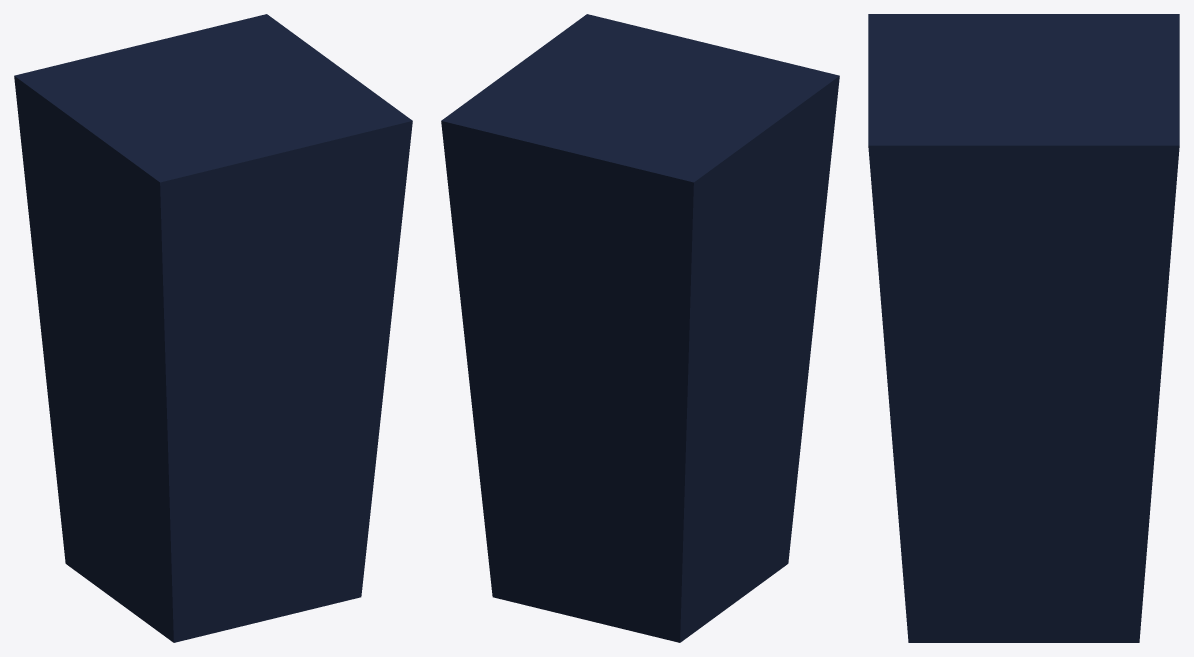
The model's file is Thor_LegLower 1.FBX.
3 views of the same model, side by side, from view 1: azimuth 30°, elevation 25°; view 2: azimuth 150°, elevation 25°; view 3: azimuth 270°, elevation 25° (orthographic). The views are drawn at different scales.
Visible parts, largest first — view 1: LowerLeg; view 2: LowerLeg; view 3: LowerLeg.
Boxes of the visible parts, bbox=[...] form: LowerLeg: bbox=[14, 14, 412, 642]; LowerLeg: bbox=[441, 14, 839, 642]; LowerLeg: bbox=[868, 14, 1179, 642].
Size of the model in its own units: 4.8 by 4.8 by 8.75.
Materials: 1 (1 with a texture image).
